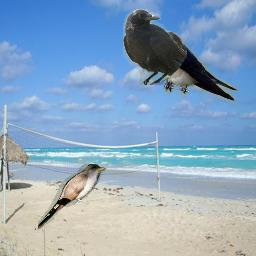Crow: (123, 9, 187, 85)
Cuckoo: (35, 164, 107, 230)
Swallow: (150, 30, 238, 104)
